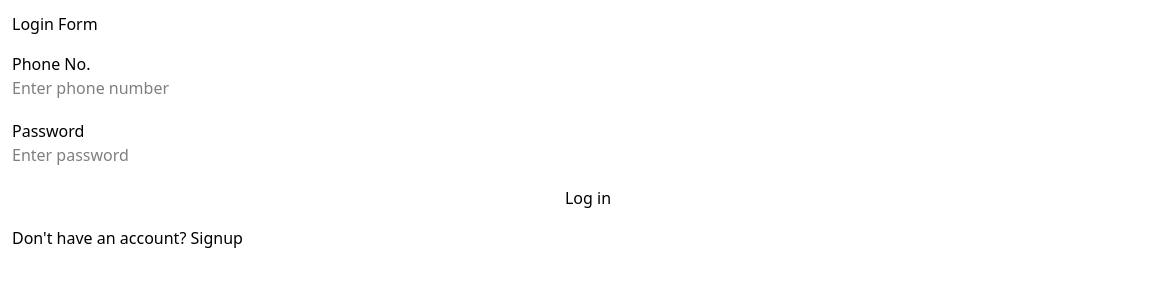
Login Component › shows validation error when password is missing
The width and height of the screenshot is (1176, 289).
Type "1234567890" into the field labelled "Phone No.".
click(128, 88); type("1234567890")  # box [12,76,243,100]
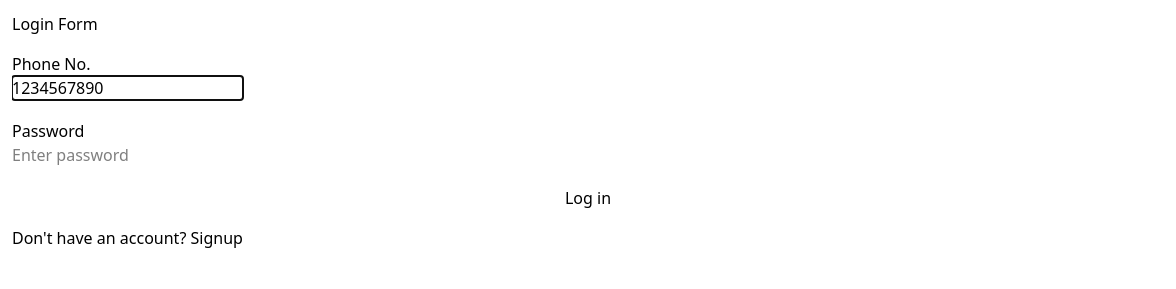
Click the button "Log in".
click(588, 198)  # box [12,186,1164,210]
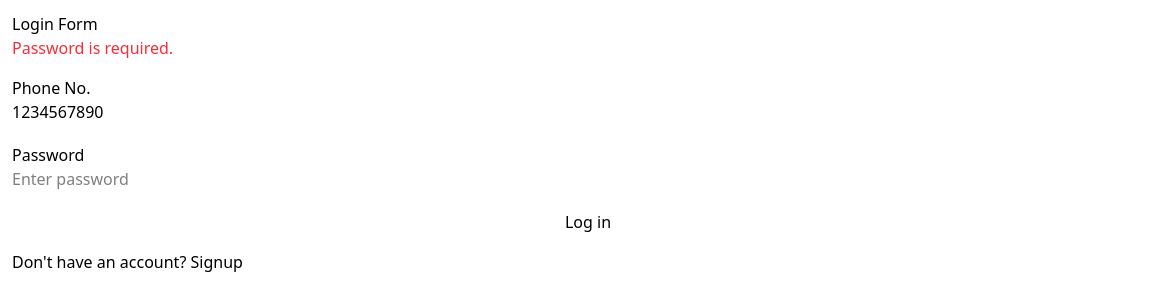
Now the text "Password is required." is shown, box [12,37,173,59]
